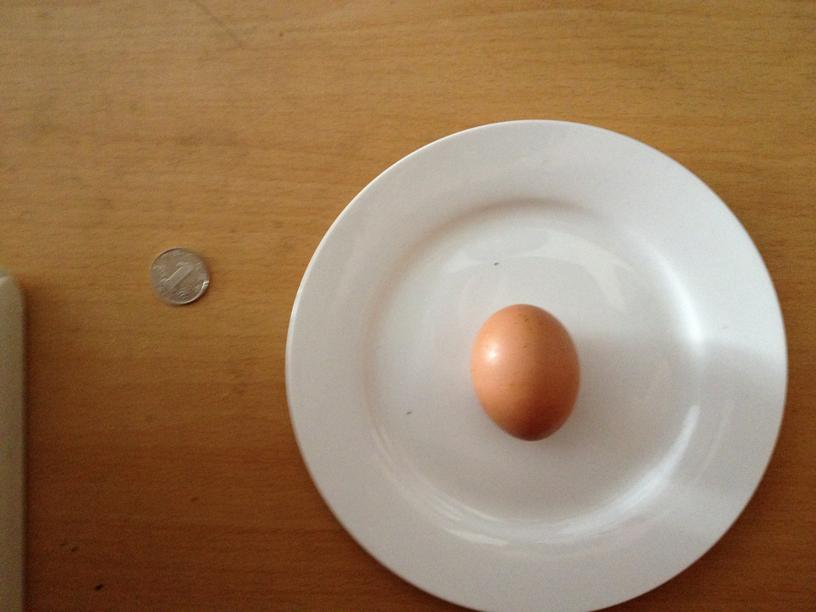coin: (146, 244, 210, 306)
egg: (468, 300, 580, 440)
